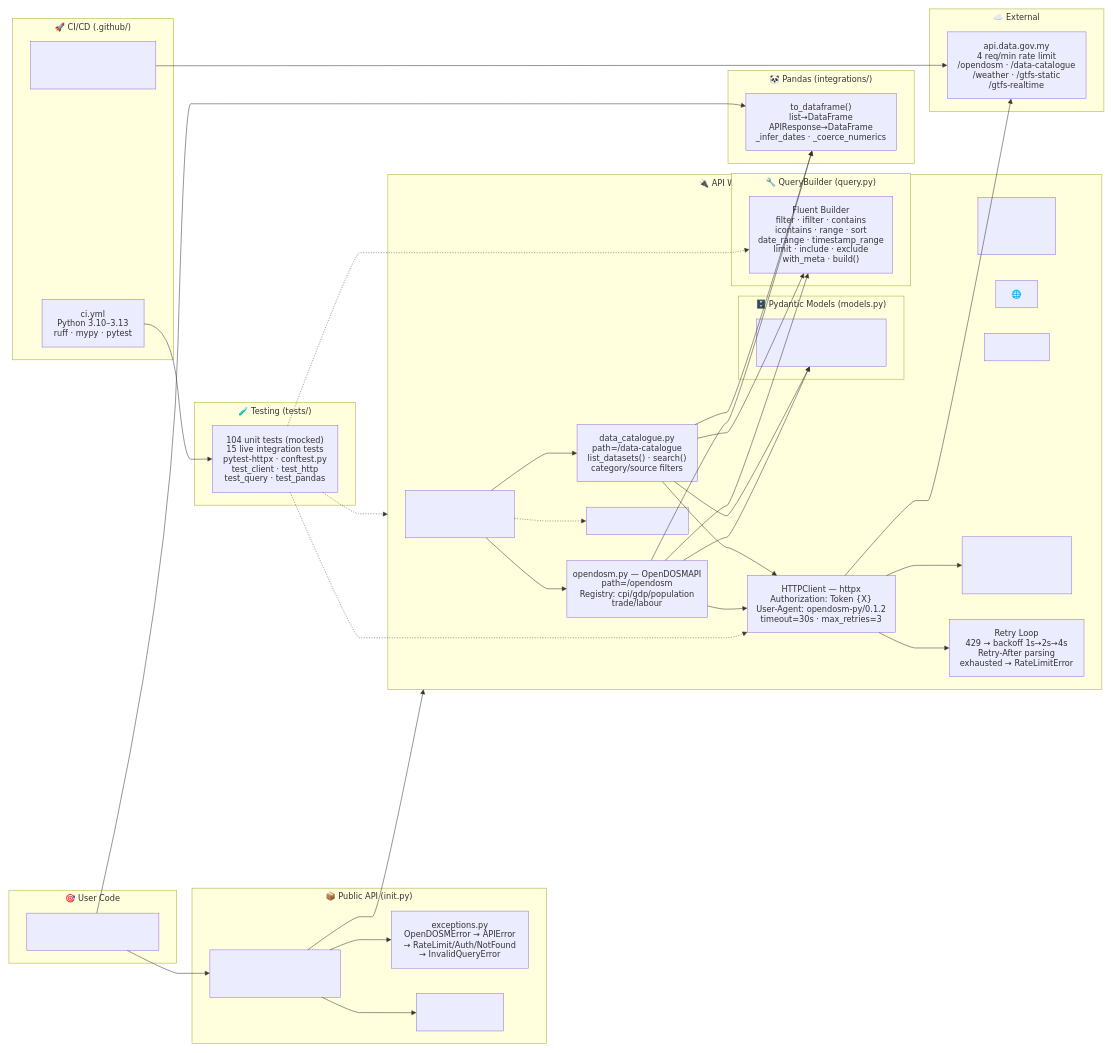
Some shapes in this 1113 by 1053 pixel diagram are drawn without their labels. The shapes that lost their labels are listed below. From the top down, each one's centre as x and y in pixels, then its label:
point (93, 65): publish.yml GitHub Release → Trusted Publishing → PyPI
point (1016, 226): ] end subgraph L3[
point (821, 342): APIResponse · DatasetInfo MetaInfo · ErrorResponse extra=allow — fwd-compat
point (1016, 347): Transport
point (459, 514): base.py — BaseAPI Template Method _get(id, query, meta)
point (637, 521): "weather.py [v0.2.0
point (1017, 565): Error Mapping 401/403 → AuthError 404 → NotFoundError 5xx → APIError
point (92, 931): OpenDOSM(max_retries=5) Facade — single entry point
point (274, 973): 11 exports: OpenDOSM QueryBuilder · APIResponse DatasetInfo · exceptions
point (460, 1012): _version.py version = '0.1.2'
